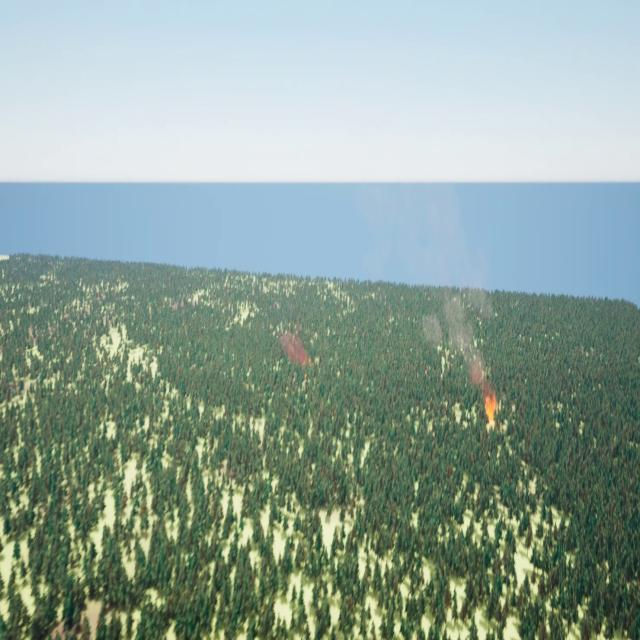fire: (484, 393, 500, 427)
smoke: (352, 180, 492, 391), (282, 329, 310, 367)
